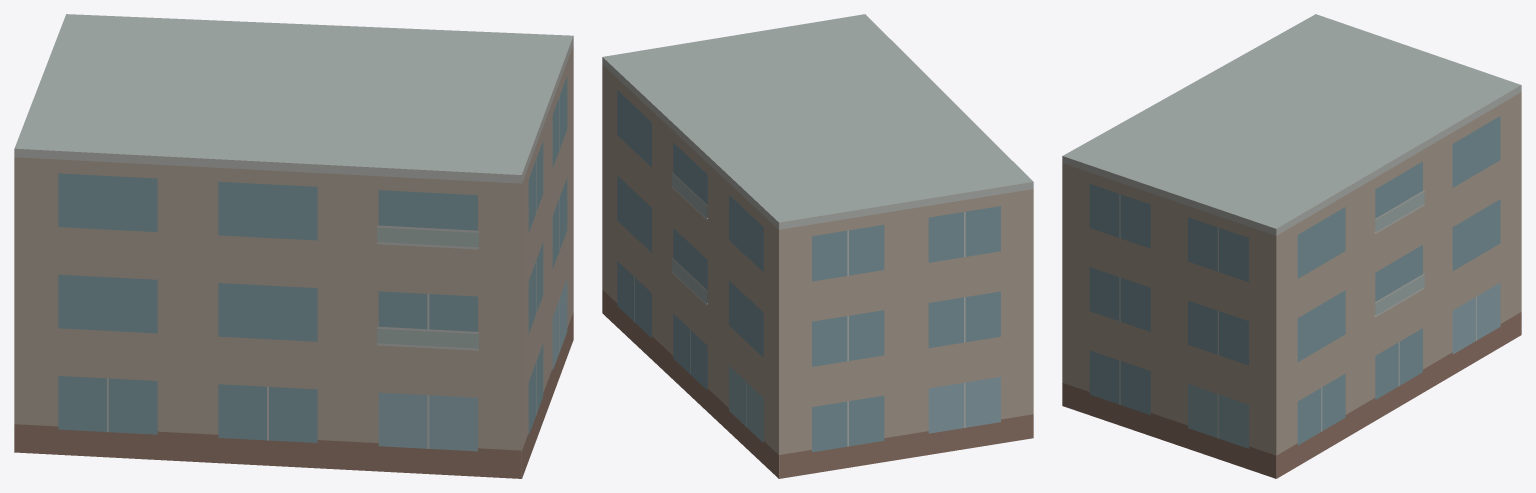
File: survey-upis-32910572.glb
3 views of the same model, side by side, from view 1: azimuth 30°, elevation 25°; view 2: azimuth 150°, elevation 25°; view 3: azimuth 270°, elevation 25° (orthographic). The views are drawn at different scales.
Parts seen in each view (by area): view 1: survey-upis-32910572.tmp; view 2: survey-upis-32910572.tmp; view 3: survey-upis-32910572.tmp.
Part boxes in pixels (x1,y1,x2,y2): survey-upis-32910572.tmp: (14, 14, 573, 478); survey-upis-32910572.tmp: (602, 14, 1033, 478); survey-upis-32910572.tmp: (1062, 14, 1521, 478).
Size of the model in its own units: 16.05 by 8.7 by 14.49.
